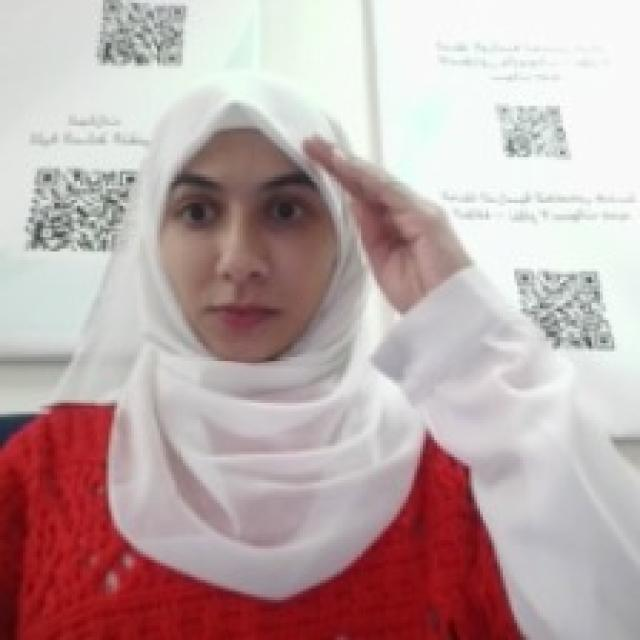Thanks: (297, 126, 472, 311)
